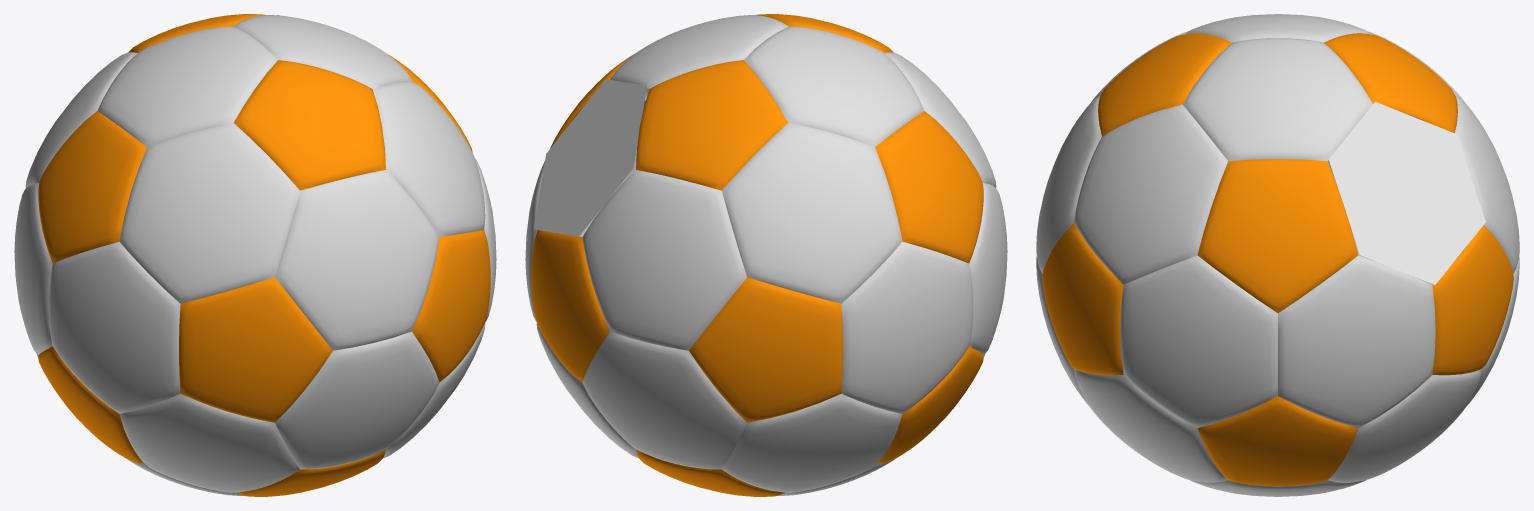
The model's file is FootBall.fbx.
3 renders of one model, left to right at view 1: azimuth 30°, elevation 25°; view 2: azimuth 150°, elevation 25°; view 3: azimuth 270°, elevation 25°, orthographic.
Parts seen in each view (by area): view 1: Object07, Object08, Object20, Object32, Object12, Object06, Object23, Object16, Object09, Object31, Object25, Object02 (+7 smaller); view 2: Object05, Object04, Object21, Object30, Object18, Object06, Object22, Object19, Object31, Object03, Hedra01, Object02 (+8 smaller); view 3: Object10, Object11, Object03, Object09, Object02, Object24, Object26, Object25, Hedra01, Object13, Object14, Object23 (+7 smaller).
Boxes of the visible parts, x1=… form: Object07: x1=119, y1=123, x2=299, y2=303; Object08: x1=275, y1=170, x2=439, y2=350; Object20: x1=49, y1=241, x2=180, y2=413; Object32: x1=179, y1=277, x2=332, y2=422; Object12: x1=275, y1=331, x2=439, y2=469; Object06: x1=97, y1=26, x2=277, y2=146; Object23: x1=233, y1=60, x2=385, y2=190; Object16: x1=119, y1=394, x2=299, y2=492; Object09: x1=372, y1=81, x2=485, y2=236; Object31: x1=38, y1=111, x2=146, y2=263; Object25: x1=412, y1=230, x2=490, y2=382; Object02: x1=233, y1=15, x2=412, y2=88; Object05: x1=722, y1=123, x2=902, y2=303; Object04: x1=582, y1=170, x2=746, y2=350; Object21: x1=841, y1=241, x2=972, y2=413; Object30: x1=689, y1=277, x2=842, y2=422; Object18: x1=582, y1=331, x2=746, y2=469; Object06: x1=744, y1=26, x2=924, y2=146; Object22: x1=636, y1=60, x2=788, y2=190; Object19: x1=722, y1=394, x2=902, y2=492; Object31: x1=875, y1=111, x2=983, y2=263; Object03: x1=533, y1=79, x2=647, y2=236; Hedra01: x1=531, y1=230, x2=609, y2=382; Object02: x1=610, y1=15, x2=788, y2=88; Object10: x1=1278, y1=255, x2=1435, y2=427; Object11: x1=1120, y1=255, x2=1277, y2=427; Object03: x1=1328, y1=101, x2=1485, y2=284; Object09: x1=1074, y1=104, x2=1227, y2=284; Object02: x1=1182, y1=38, x2=1372, y2=161; Object24: x1=1197, y1=159, x2=1358, y2=312; Object26: x1=1197, y1=396, x2=1358, y2=486; Object25: x1=1042, y1=223, x2=1123, y2=375; Hedra01: x1=1432, y1=225, x2=1513, y2=375; Object13: x1=1074, y1=369, x2=1227, y2=482; Object14: x1=1328, y1=369, x2=1481, y2=482; Object23: x1=1098, y1=33, x2=1231, y2=136.
Size of the model in its own units: 99.19 by 99.19 by 99.19.
